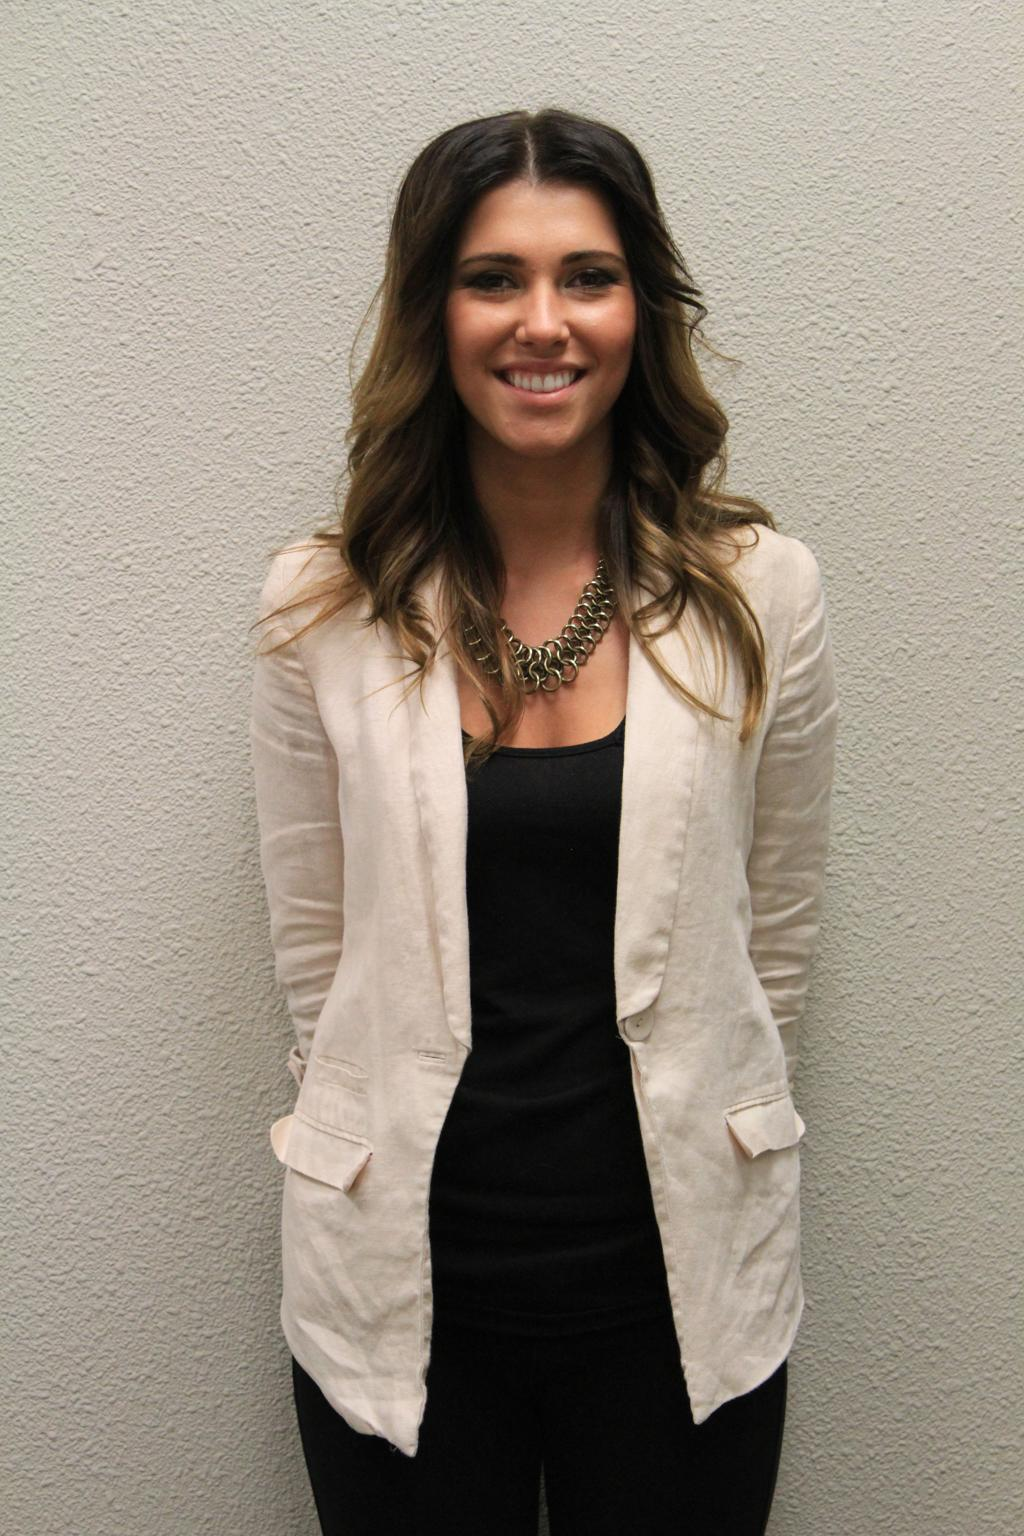face: (442, 187, 637, 454)
